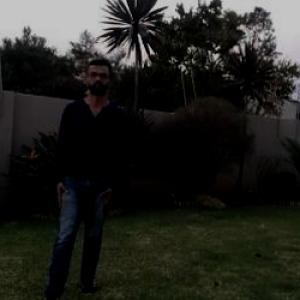follow: (40, 31, 133, 299)
